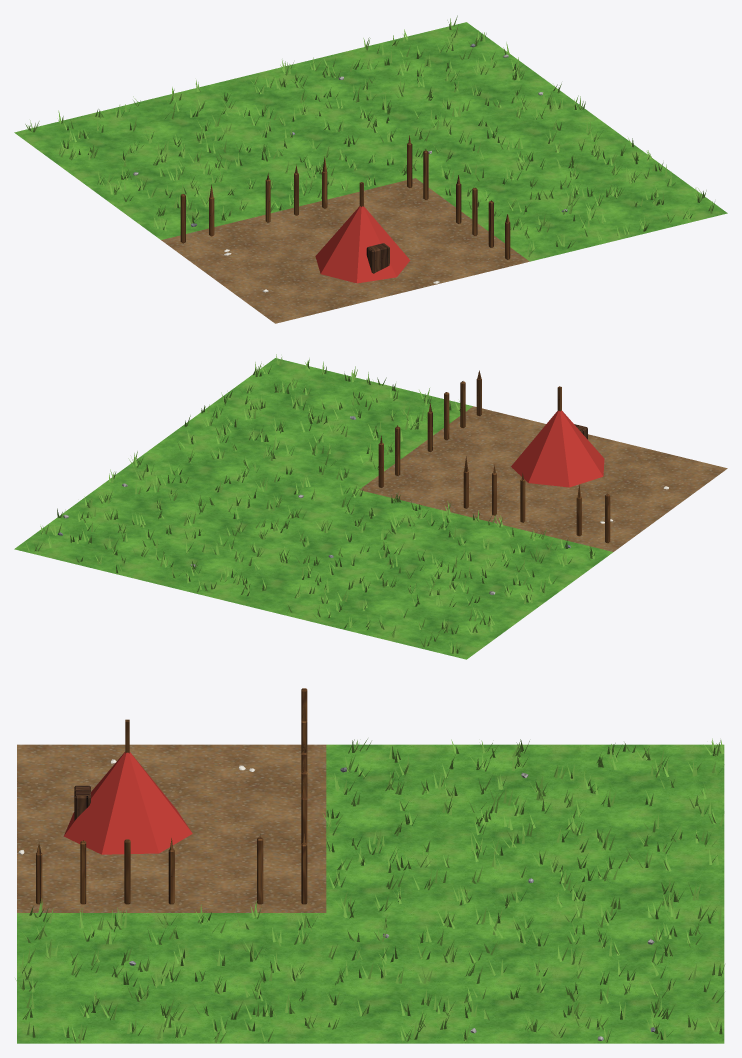
The model's file is chunk_3_4.glb.
The picture shows the model from 3 angles, top to bottom: view 1: azimuth 30°, elevation 25°; view 2: azimuth 150°, elevation 25°; view 3: azimuth 270°, elevation 25°; orthographic projection. The views are drawn at different scales.
Parts seen in each view (by area): view 1: chunk_3_4; view 2: chunk_3_4; view 3: chunk_3_4.
Part boxes in pixels (x1=…): chunk_3_4: x1=14, y1=15, x2=727, y2=323; chunk_3_4: x1=14, y1=354, x2=727, y2=659; chunk_3_4: x1=15, y1=688, x2=724, y2=1043.
Size of the model in its own units: 16 by 2.76 by 16.15.
10 materials, 7 textured.
